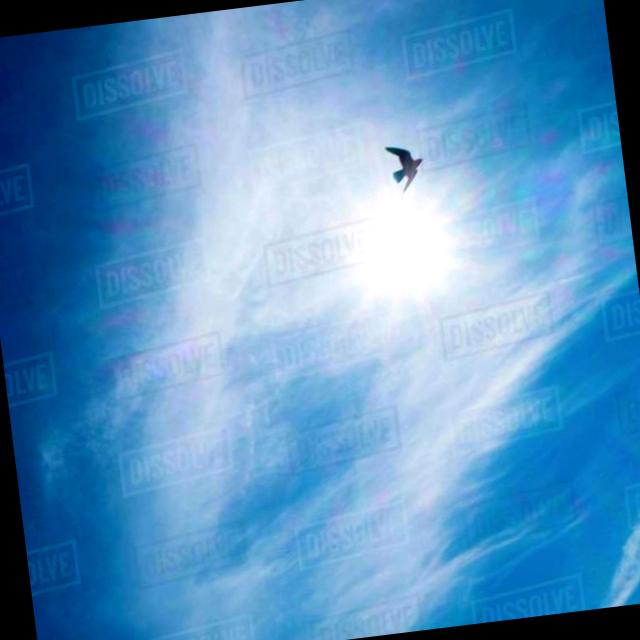bird: (376, 137, 425, 195)
